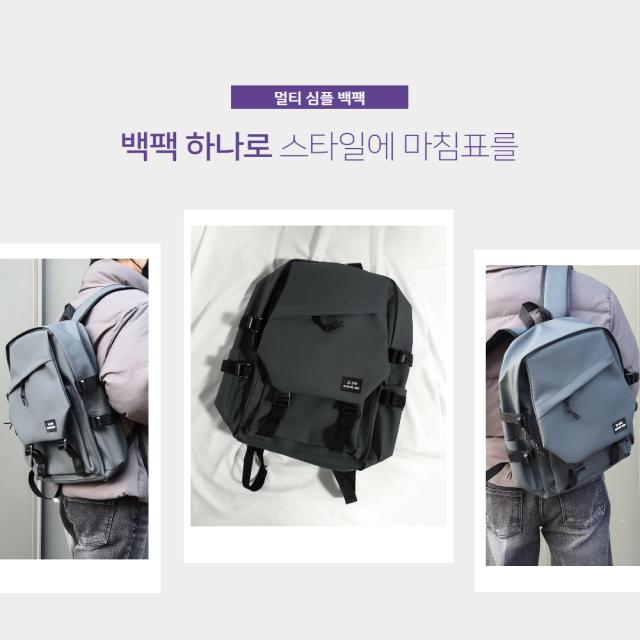backpack: (0, 281, 148, 493), (494, 297, 640, 493)
